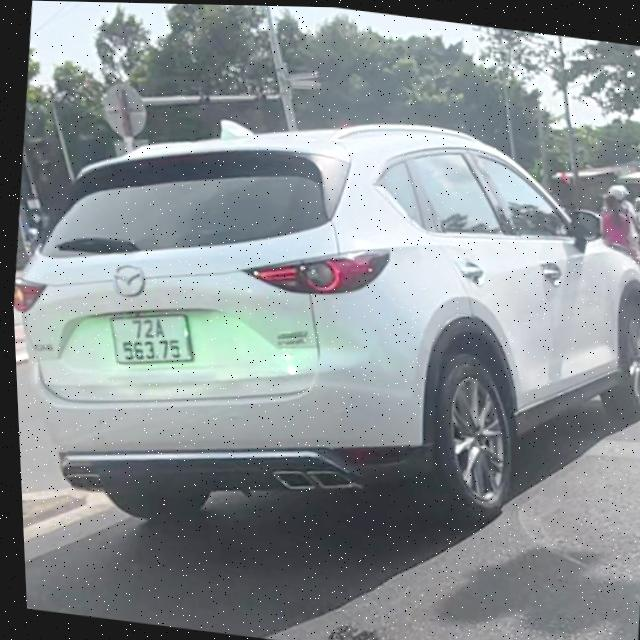car: (3, 72, 640, 588)
plate: (91, 302, 210, 380)
